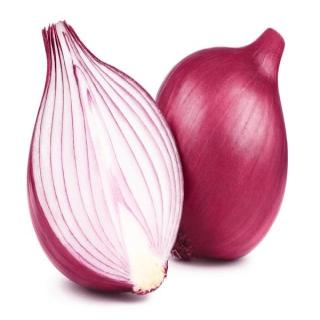Bawang Merah: (24, 18, 184, 300), (155, 24, 292, 269)
